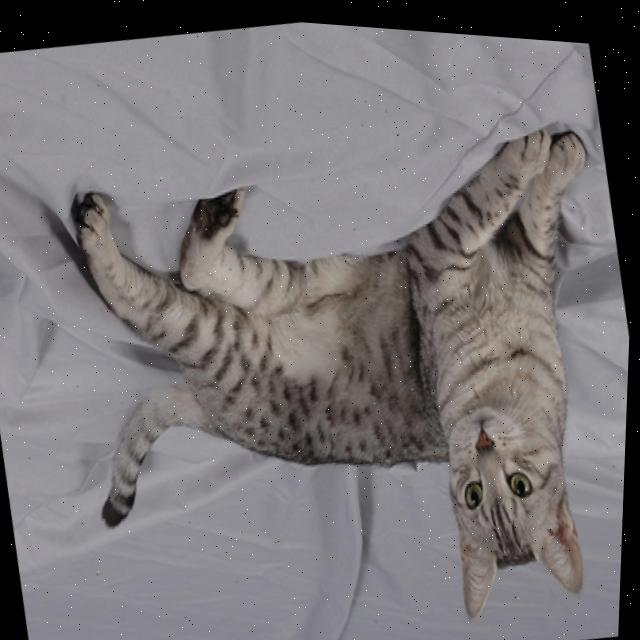Egyptian Mau: (39, 78, 638, 640)
